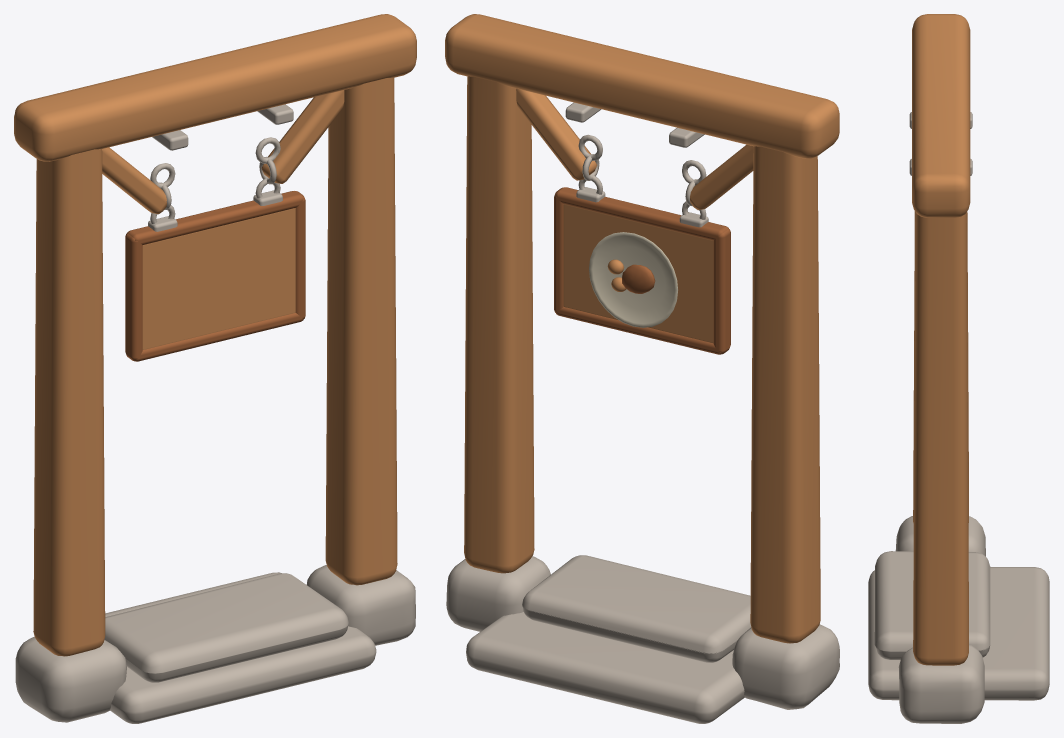
File: REST_ENTRANCE.glb
The picture shows the model from 3 angles, left to right: view 1: azimuth 30°, elevation 25°; view 2: azimuth 150°, elevation 25°; view 3: azimuth 270°, elevation 25°; orthographic projection. The views are drawn at different scales.
Visible parts, largest first — view 1: post_1, post_0, beam, step_high, sign_board, step_low, sign_trim, post_base_1, post_base_0, hooks, brace_0, brace_1; view 2: post_1, post_0, beam, step_low, step_high, sign_board, sign_trim, post_base_1, food_plate, post_base_0, hooks, brace_0 (+2 smaller); view 3: post_0, beam, step_low, step_high, post_base_0, post_base_1, post_1.
Boxes of the visible parts, x1,y1,x2,y2 form: post_1: (33, 149, 105, 656); post_0: (325, 77, 397, 585); beam: (14, 14, 416, 161); step_high: (104, 573, 348, 682); sign_board: (142, 208, 295, 349); step_low: (105, 572, 376, 723); sign_trim: (125, 191, 305, 361); post_base_1: (15, 636, 126, 722); post_base_0: (306, 565, 415, 645); hooks: (148, 104, 293, 231); brace_0: (261, 90, 344, 183); brace_1: (102, 147, 166, 214); post_1: (750, 146, 820, 643); post_0: (464, 76, 534, 573); beam: (445, 14, 839, 158); step_low: (466, 612, 744, 723); step_high: (522, 555, 751, 662); sign_board: (563, 204, 713, 343); sign_trim: (554, 187, 730, 354); post_base_1: (732, 624, 839, 709); food_plate: (589, 232, 678, 327); post_base_0: (446, 556, 550, 631); hooks: (565, 102, 708, 227); brace_0: (516, 88, 597, 180); post_0: (913, 212, 968, 665); beam: (912, 14, 970, 217); step_low: (868, 567, 1049, 700); step_high: (874, 551, 990, 659); post_base_0: (898, 644, 984, 723); post_base_1: (895, 516, 985, 556); post_1: (913, 211, 968, 522).
Size of the model in its own units: 8 by 12.13 by 3.6.
